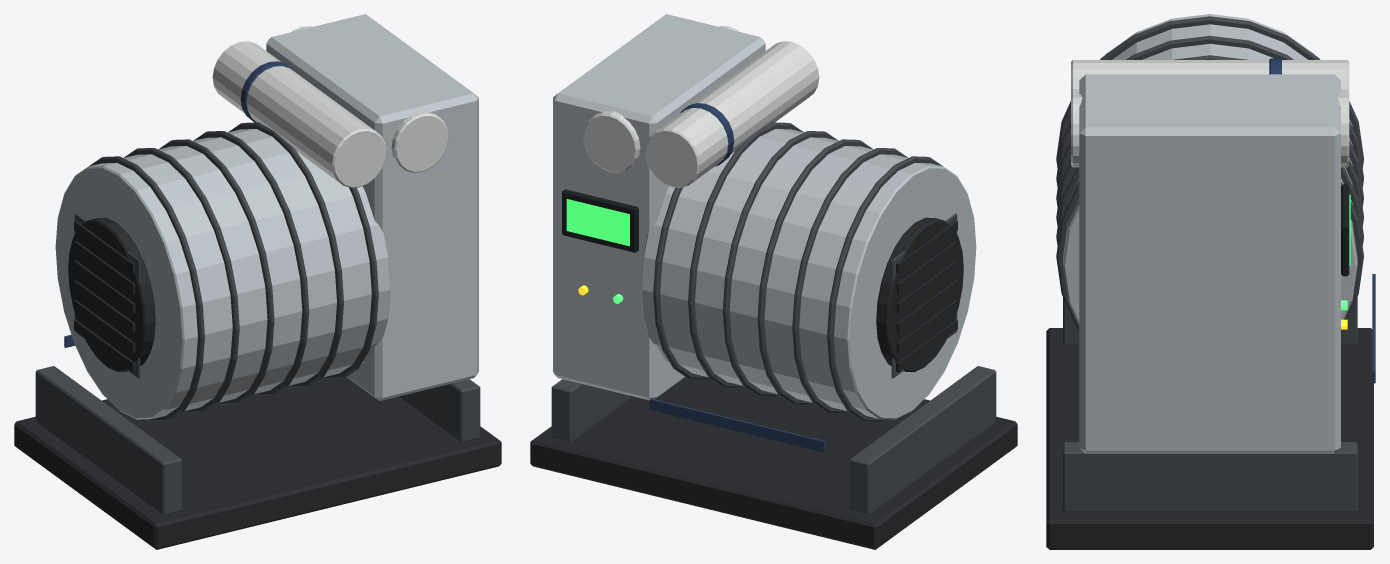
The model's file is hydrogen_generator.glb.
The picture shows the model from 3 angles, left to right: view 1: azimuth 30°, elevation 25°; view 2: azimuth 150°, elevation 25°; view 3: azimuth 270°, elevation 25°; orthographic projection. The views are drawn at different scales.
Parts seen in each view (by area): view 1: hydrogen_generator; view 2: hydrogen_generator; view 3: hydrogen_generator.
Part boxes in pixels (x1,y1,x2,y2): hydrogen_generator: (14, 14, 501, 549); hydrogen_generator: (530, 14, 1017, 549); hydrogen_generator: (1046, 14, 1375, 549).
Bounding box in the file's own units: 1.4 × 1.4 × 1.
